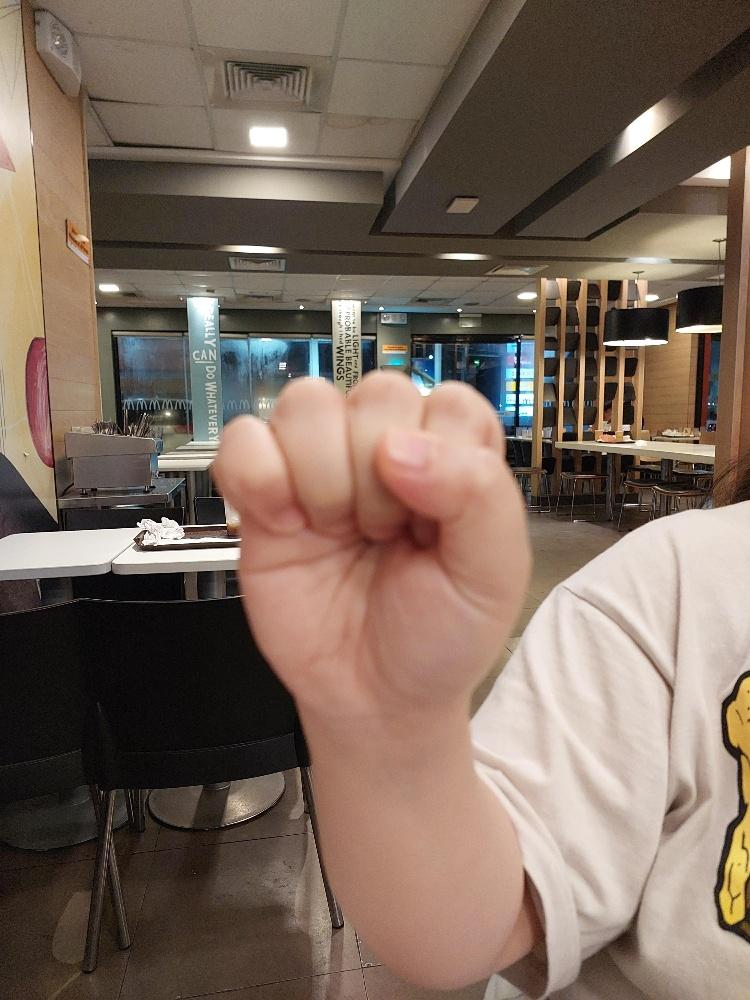s: (209, 368, 533, 718)
